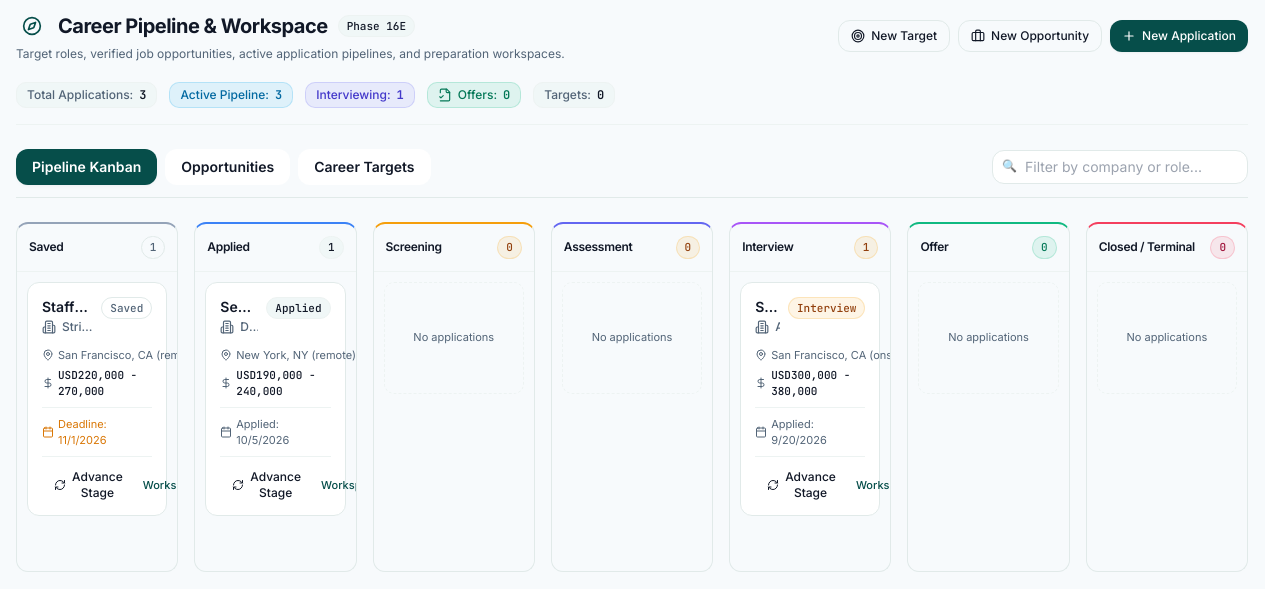
Test: CareerPipelinePage & Stage Machine (Phase 16E) › filters applications by search query in Kanban view
Type "Stripe" into the field with placeholder "Filter by company or role...".
click(1120, 167); type("Stripe")  # box [992,150,1248,184]
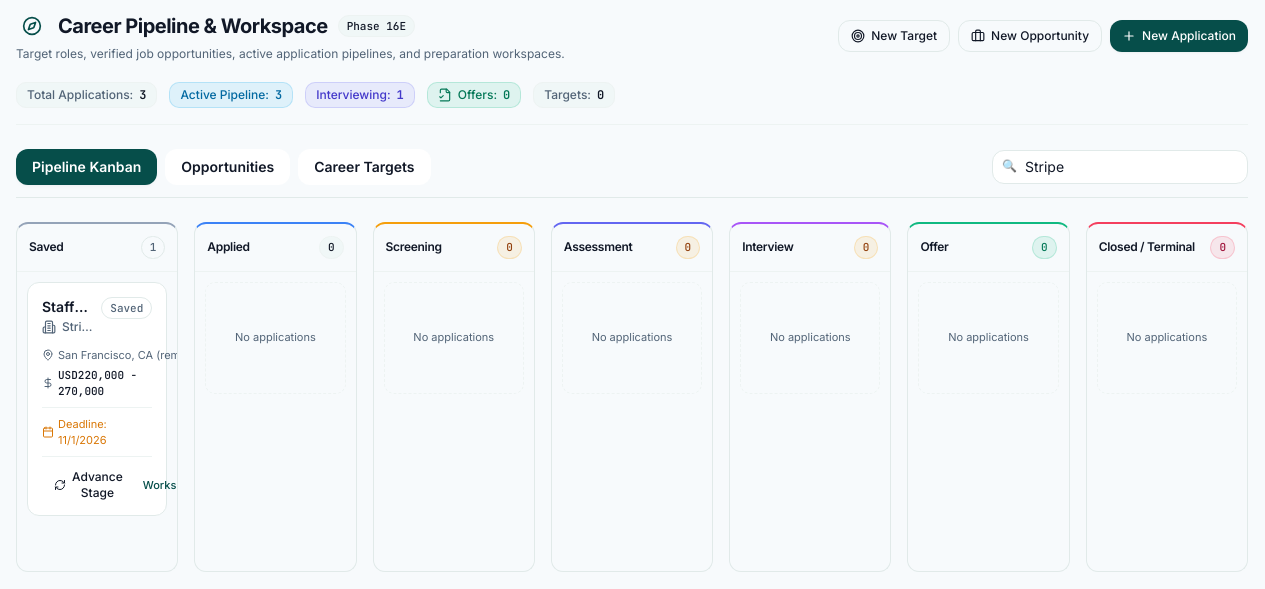
Expected: the text "Stripe" is shown, [62,318,93,334]
Now the text "Datadog" is gone
Now the text "Anthropic" is gone
